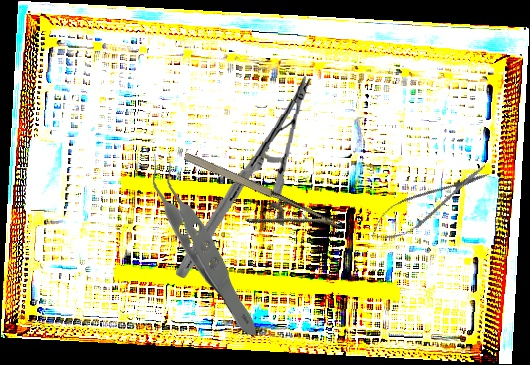Micro Scissor: (363, 155, 496, 251)
Needle Holder: (175, 68, 313, 286), (171, 147, 344, 261)
Tissue Forceps: (149, 151, 261, 336)
